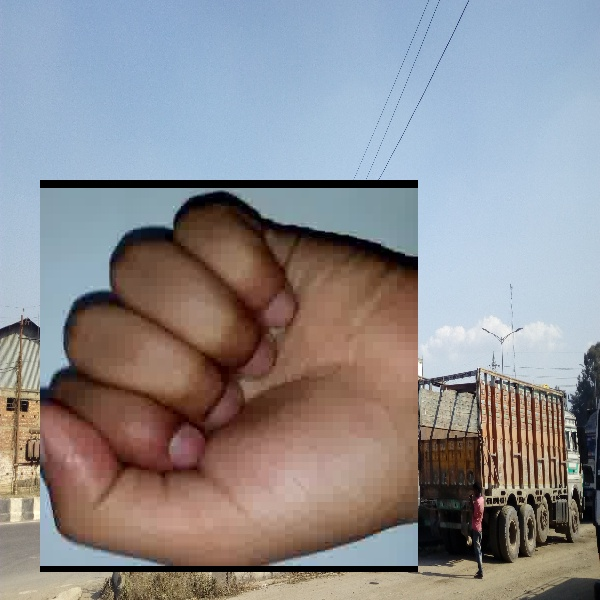A: (40, 180, 418, 572)
